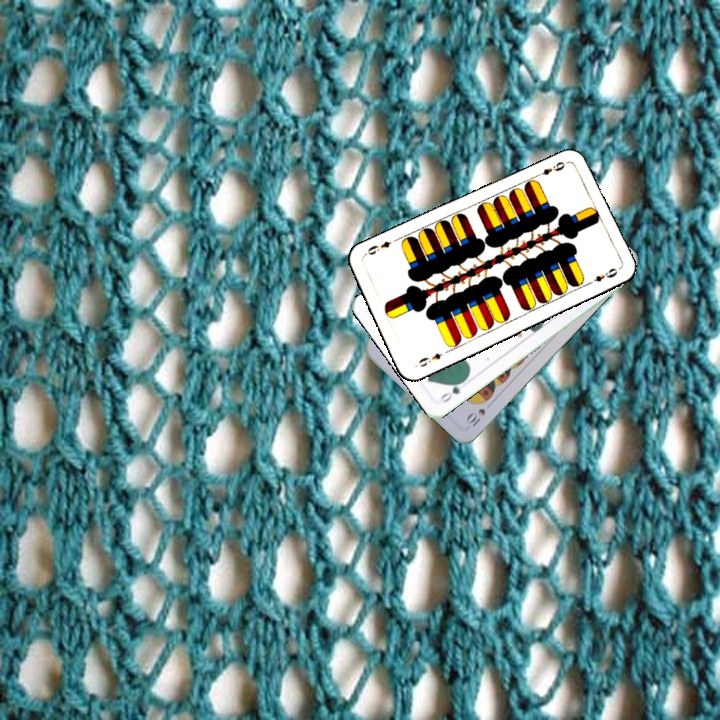E9: (532, 157, 571, 179), (414, 349, 445, 369)
GO: (436, 374, 469, 406)
S10: (461, 404, 488, 429)
